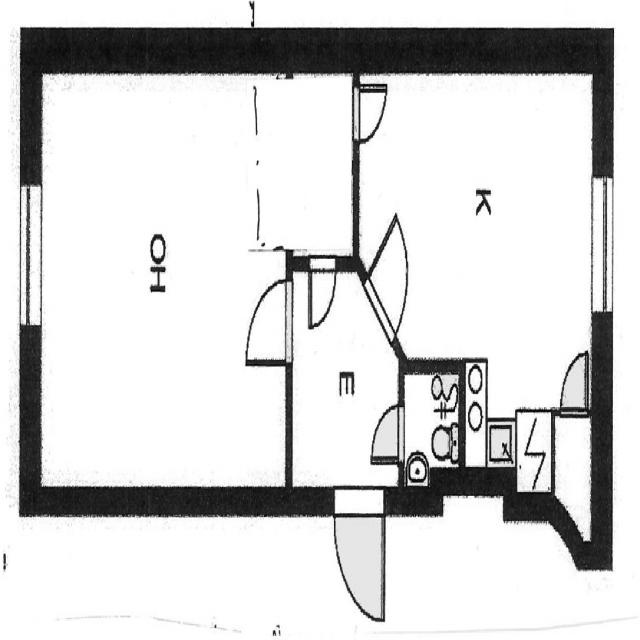door: (363, 216, 423, 345), (334, 486, 384, 622), (247, 281, 293, 364), (309, 256, 336, 328), (352, 85, 386, 142), (372, 405, 404, 464), (560, 351, 588, 418)
